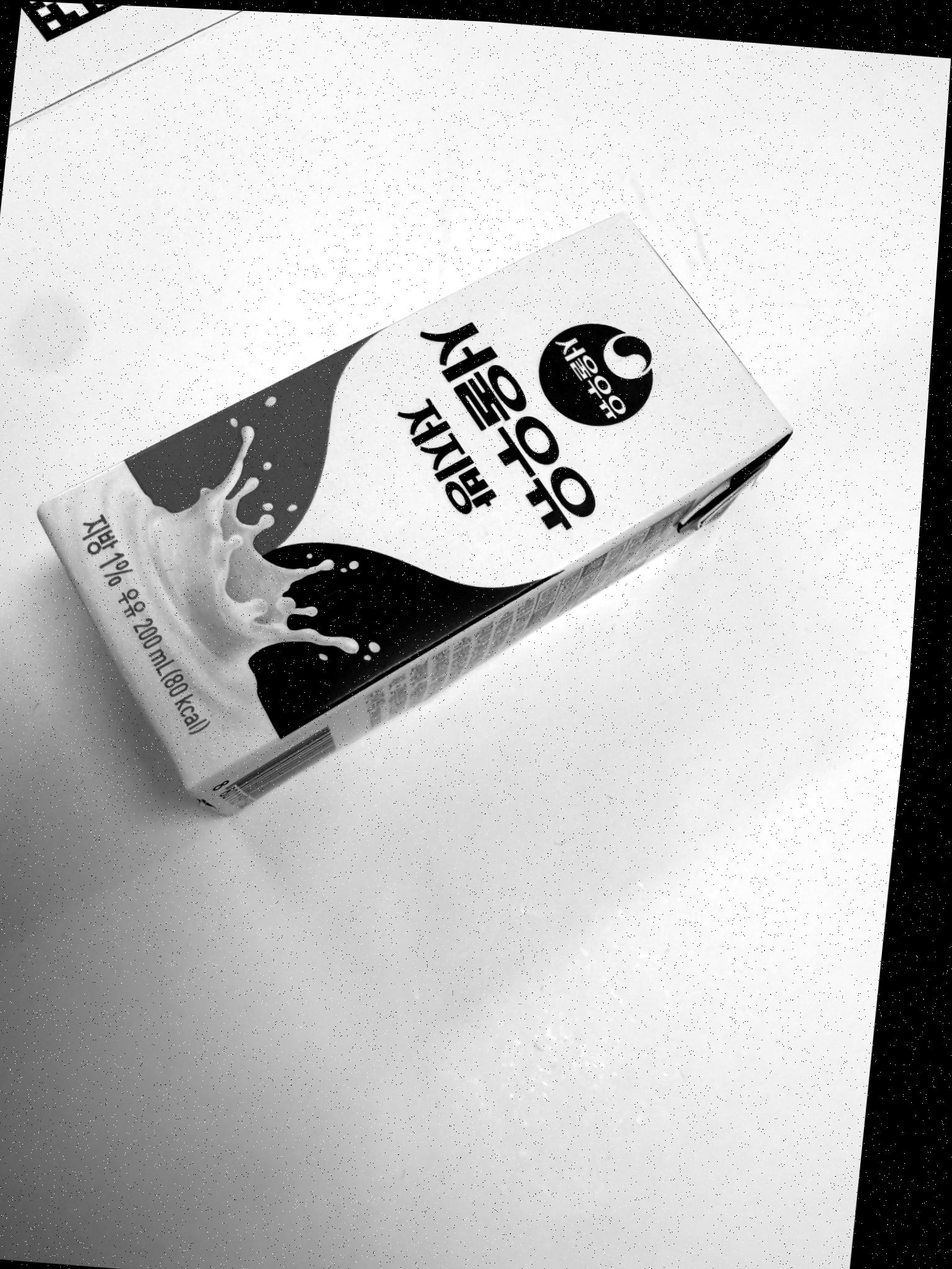milk_blue: (39, 216, 791, 815)
